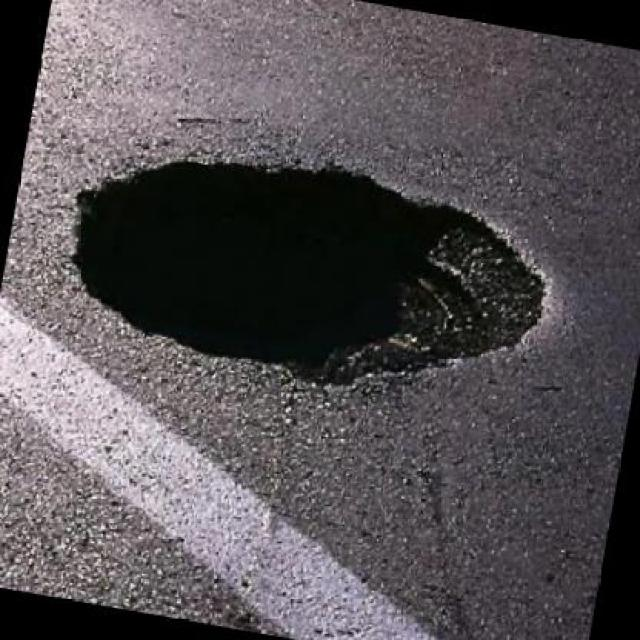pothole: (44, 113, 576, 430)
